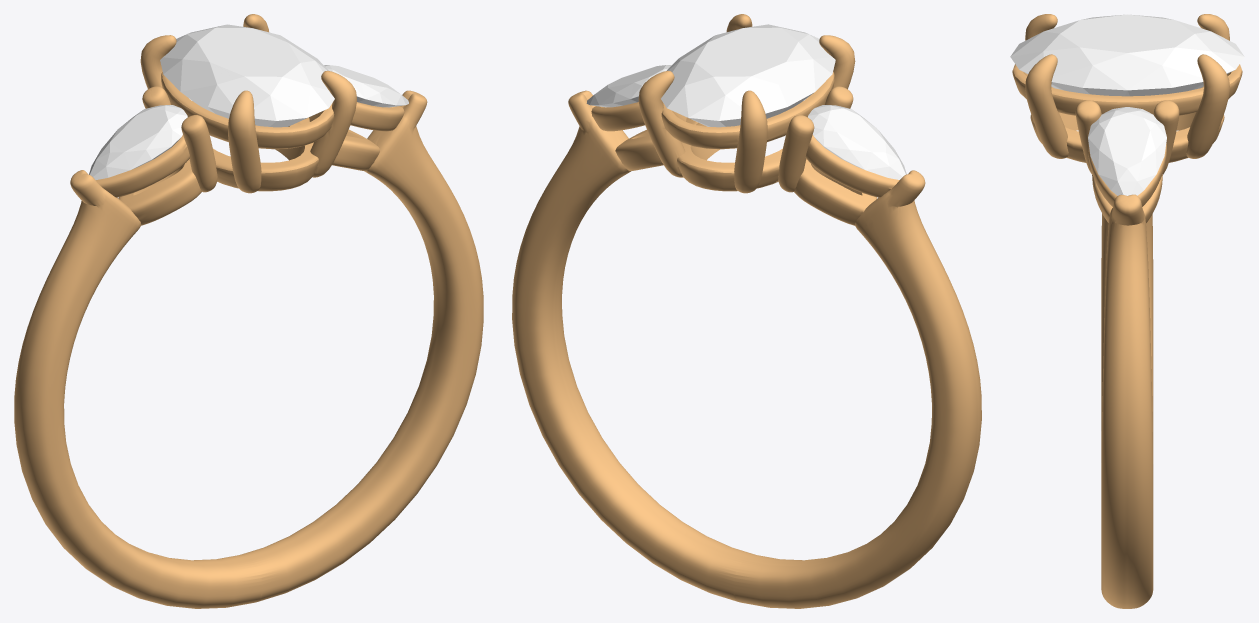
The picture shows the model from 3 angles, left to right: view 1: azimuth 30°, elevation 25°; view 2: azimuth 150°, elevation 25°; view 3: azimuth 270°, elevation 25°; orthographic projection.
Parts seen in each view (by area): view 1: object 4, PART0001 (×3); view 2: object 4, PART0001 (×3); view 3: object 4, PART0001 (×2).
Boxes of the visible parts, left/top/right/bottom form: object 4: left=14, top=14, right=483, bottom=608; PART0001 (×3): left=89, top=24, right=408, bottom=179; object 4: left=512, top=14, right=981, bottom=608; PART0001 (×3): left=586, top=24, right=906, bottom=179; object 4: left=1012, top=14, right=1242, bottom=608; PART0001 (×2): left=1010, top=14, right=1244, bottom=195.
Bounding box in the file's own units: 2.54 × 2.88 × 1.11.
